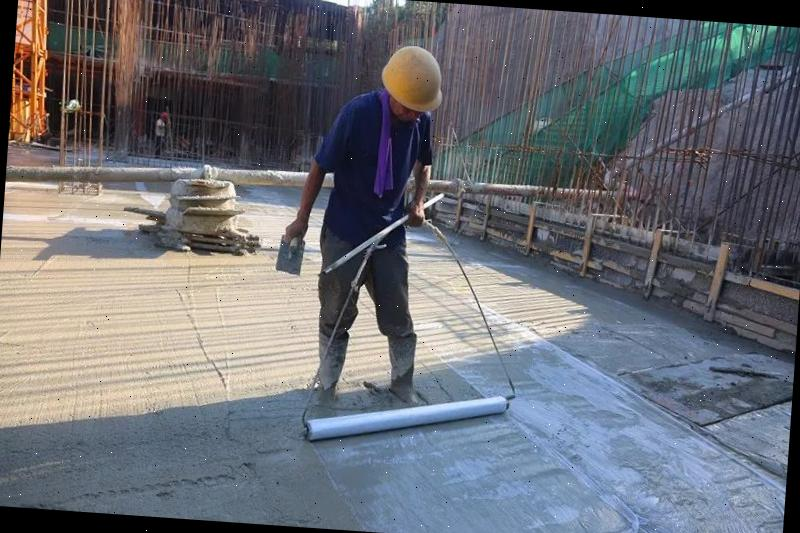helmet: (380, 41, 449, 116)
no_wear: (319, 96, 429, 250)
